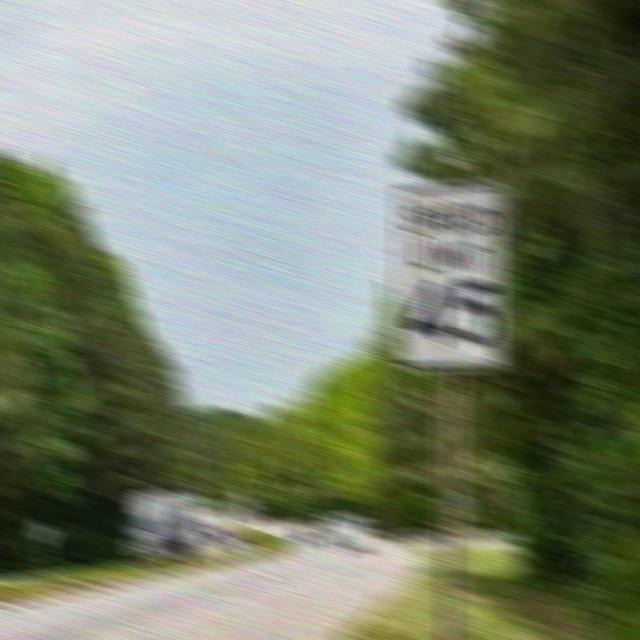speedLimit45: (391, 178, 510, 376)
